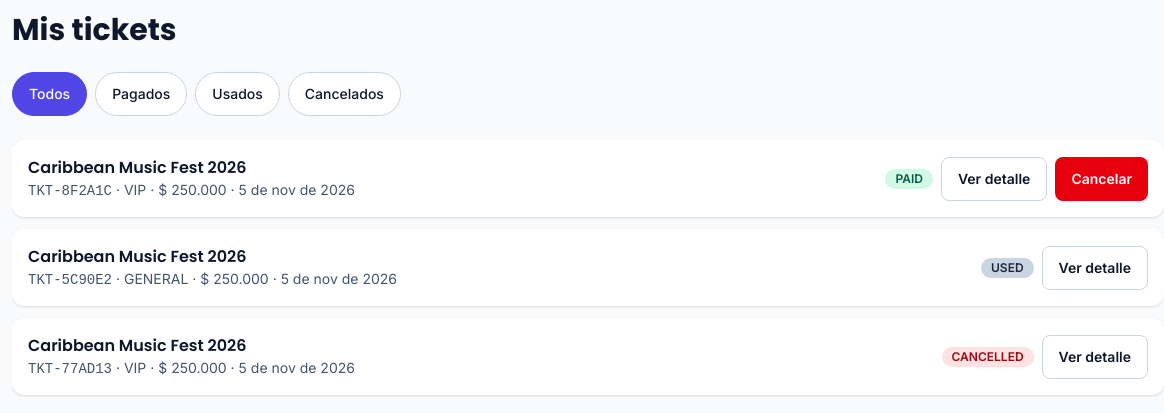
Test: mis tickets › lista y filtra por estado; Cancelar solo aparece en PAID
The image size is (1164, 413).
Expected: the text "TKT-8F2A1C" is shown, top-left (28, 183), bottom-right (112, 199)
Expected: the number of buttons "Cancelar" is 1, top-left (1055, 156), bottom-right (1148, 200)
Click the button "Usados" at (238, 94), box top-left (195, 72), bottom-right (280, 116)
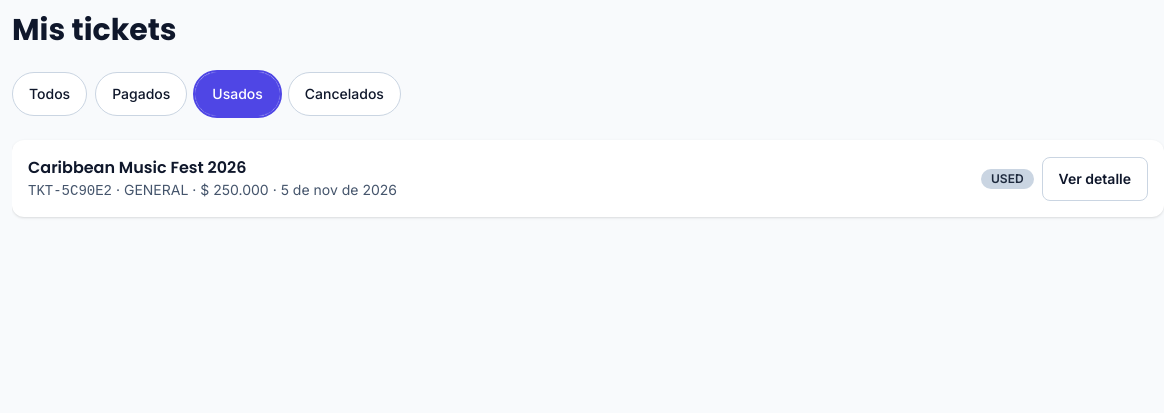
Expected: the text "TKT-5C90E2" is shown, top-left (28, 183), bottom-right (112, 199)
Expected: the text "TKT-8F2A1C" is gone
